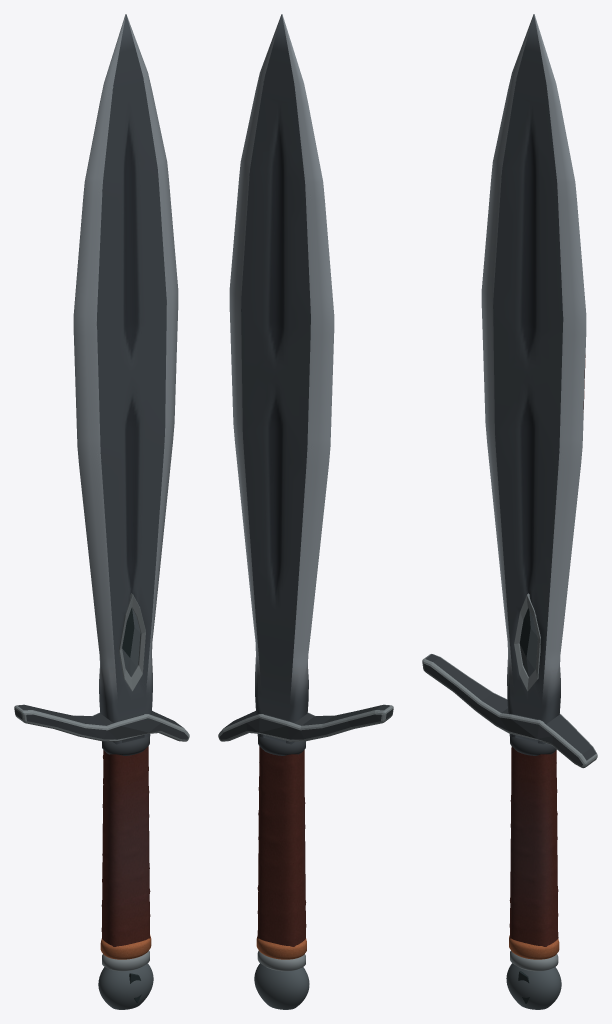
The model's file is starfall.glb.
The picture shows the model from 3 angles, left to right: view 1: azimuth 30°, elevation 25°; view 2: azimuth 150°, elevation 25°; view 3: azimuth 330°, elevation 25°; orthographic projection.
Parts seen in each view (by area): view 1: starfall_Baked.001 export; view 2: starfall_Baked.001 export; view 3: starfall_Baked.001 export.
Part boxes in pixels (<box>): starfall_Baked.001 export: <box>14,14,189,1009</box>; starfall_Baked.001 export: <box>218,14,393,1009</box>; starfall_Baked.001 export: <box>422,14,597,1009</box>.
Bounding box in the file's own units: 0.1964 × 1.12 × 0.0438.
Materials: 1 (1 with a texture image).
